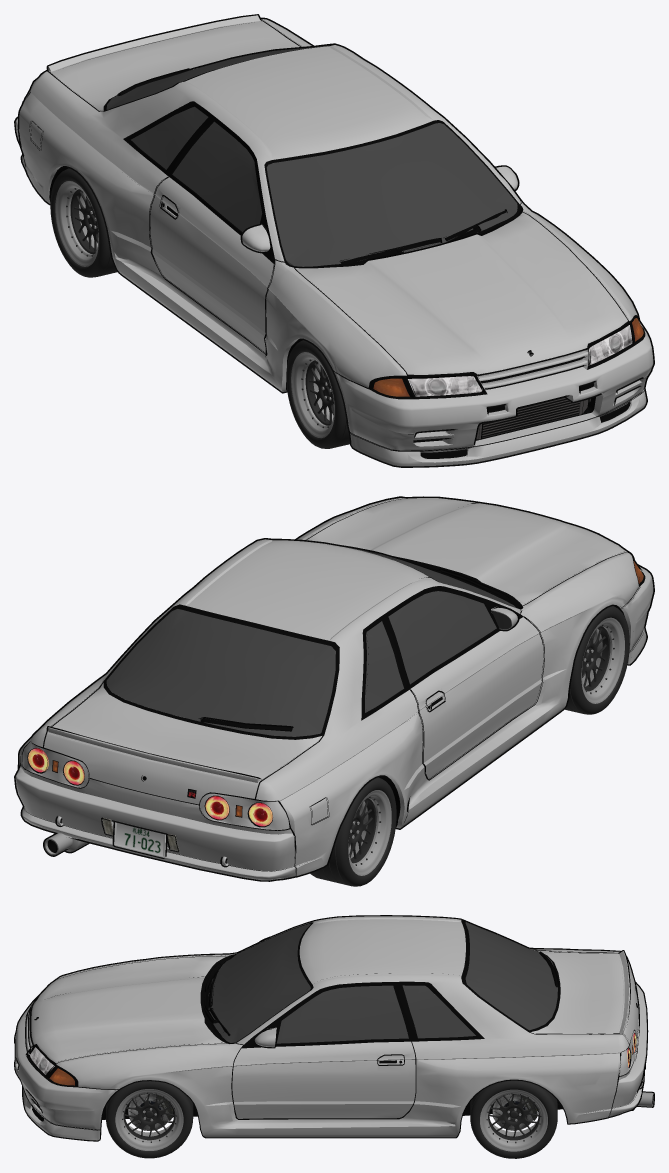
Rendered from nissan_skyline_gt-r_r32.glb.
The picture shows the model from 3 angles, top to bottom: view 1: azimuth 30°, elevation 25°; view 2: azimuth 150°, elevation 25°; view 3: azimuth 270°, elevation 25°; orthographic projection. The views are drawn at different scales.
Visible parts, largest first — view 1: Body, WheelsRR, WheelsFR; view 2: Body, WheelsRR, WheelsFR; view 3: Body, WheelsRL, WheelsFL, BrakeFL, BrakeRL.
Boxes of the visible parts, x1,y1,x2,y2 form: Body: (14, 14, 654, 467); WheelsRR: (50, 168, 117, 277); WheelsFR: (286, 340, 349, 448); Body: (14, 496, 654, 881); WheelsRR: (310, 777, 396, 886); WheelsFR: (565, 606, 629, 714); Body: (14, 915, 654, 1141); WheelsRL: (470, 1080, 557, 1158); WheelsFL: (106, 1080, 193, 1158); BrakeFL: (127, 1093, 173, 1130); BrakeRL: (492, 1094, 537, 1130).
Size of the model in its own units: 1.23 by 0.8197 by 2.95.
15 materials, 8 textured.
